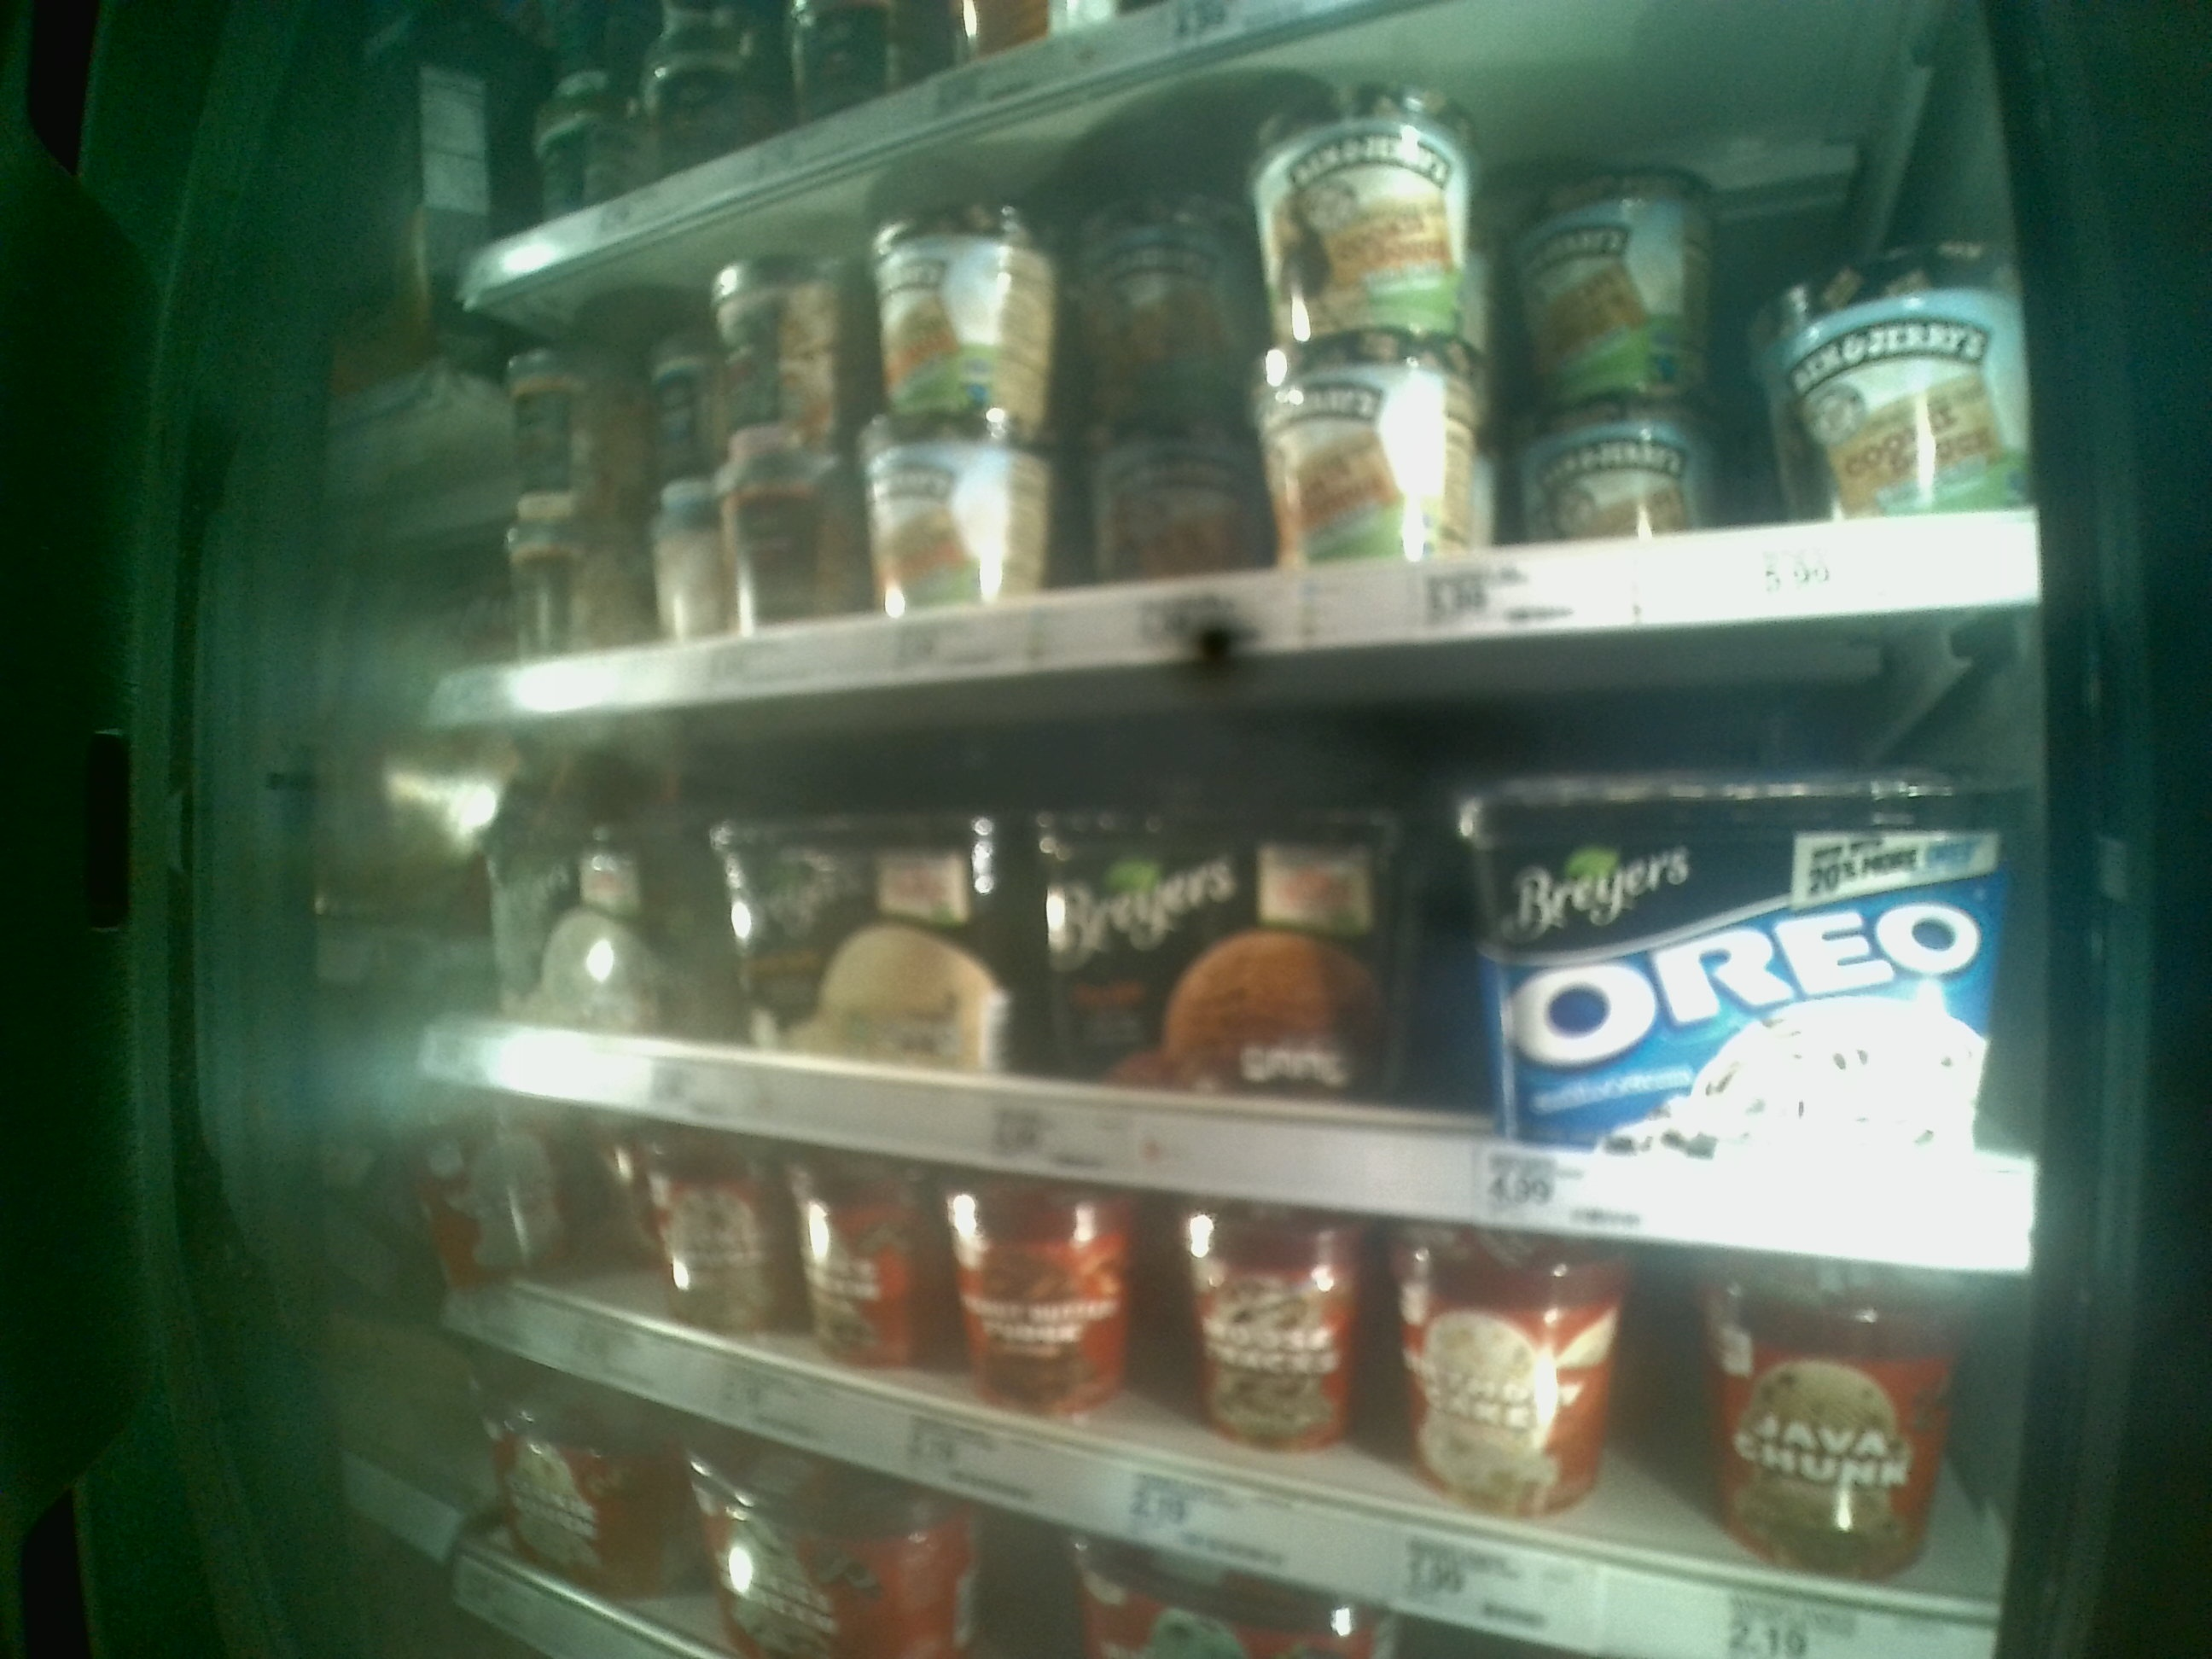shelf: (435, 608, 2043, 1284)
